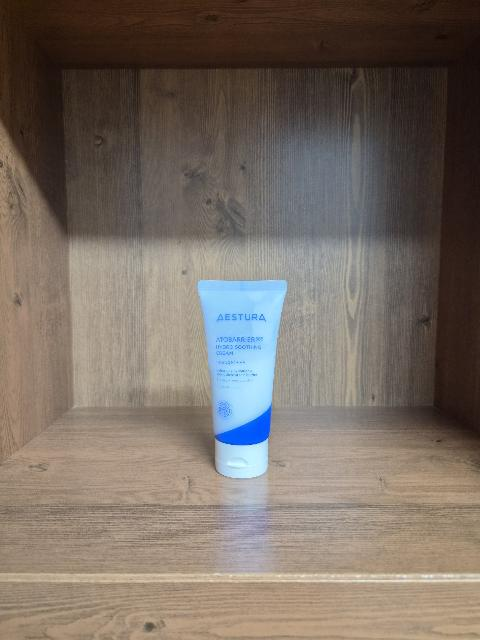handcream: (197, 279, 287, 479)
